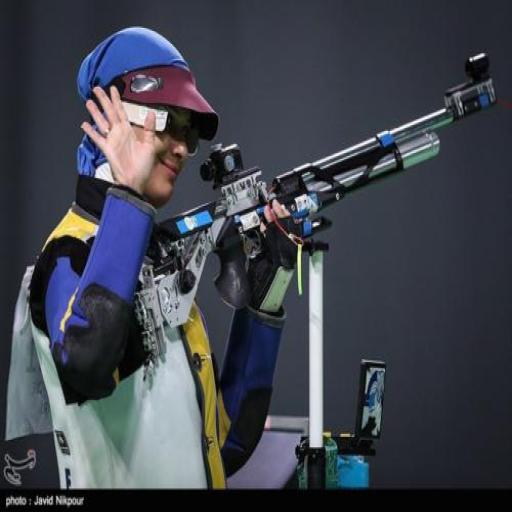shooting: (2, 24, 300, 492)
